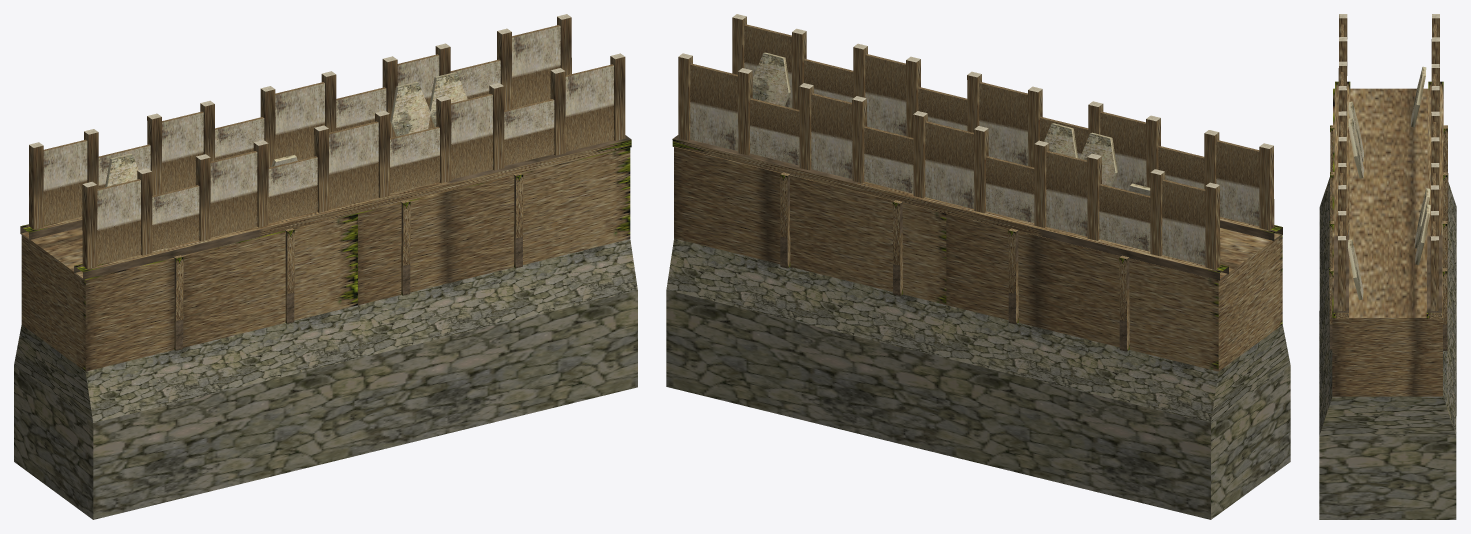
Rendered from wall_long.dae.
3 views of the same model, side by side, from view 1: azimuth 30°, elevation 25°; view 2: azimuth 150°, elevation 25°; view 3: azimuth 270°, elevation 25° (orthographic). The views are drawn at different scales.
Parts seen in each view (by area): view 1: wall_long; view 2: wall_long; view 3: wall_long.
Boxes of the visible parts, x1,y1,x2,y2 form: wall_long: (14, 14, 637, 519); wall_long: (666, 14, 1290, 519); wall_long: (1319, 14, 1456, 519).
Bounding box in the file's own units: 34.95 × 8.8 × 19.67.
